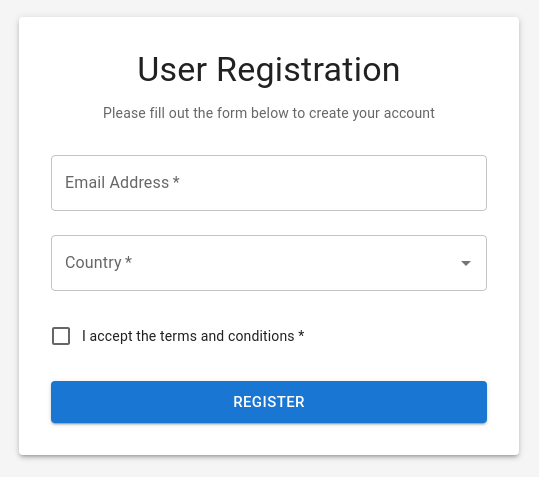
it: App Component › Autocomplete Component - Country Selection › should filter countries based on input
This screenshot has width=539, height=477.
Step 1. Type "United" into the dropdown with test id "country-input" → (254, 263), box [60,244,448,282]
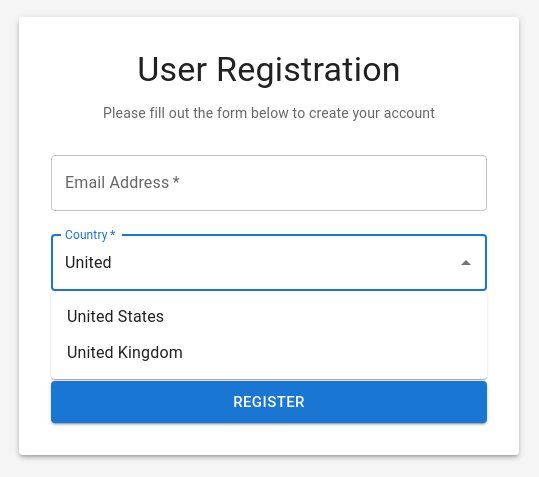
Check: the option "United States" is shown, box [67,307,164,326]
Check: the option "United Kingdom" is shown, box [67,343,183,362]
